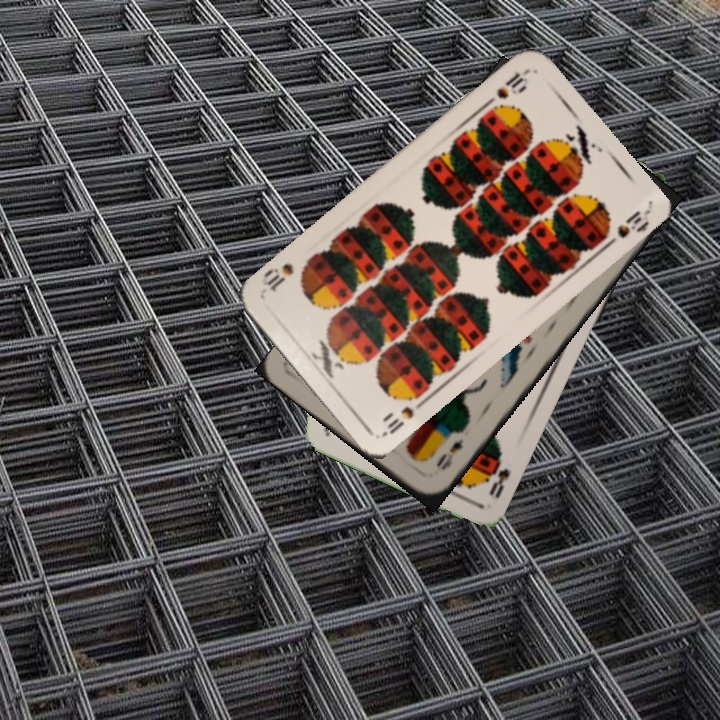EO: (432, 434, 467, 473)
S10: (379, 389, 428, 439), (480, 66, 531, 109)
SO: (485, 455, 513, 502)
